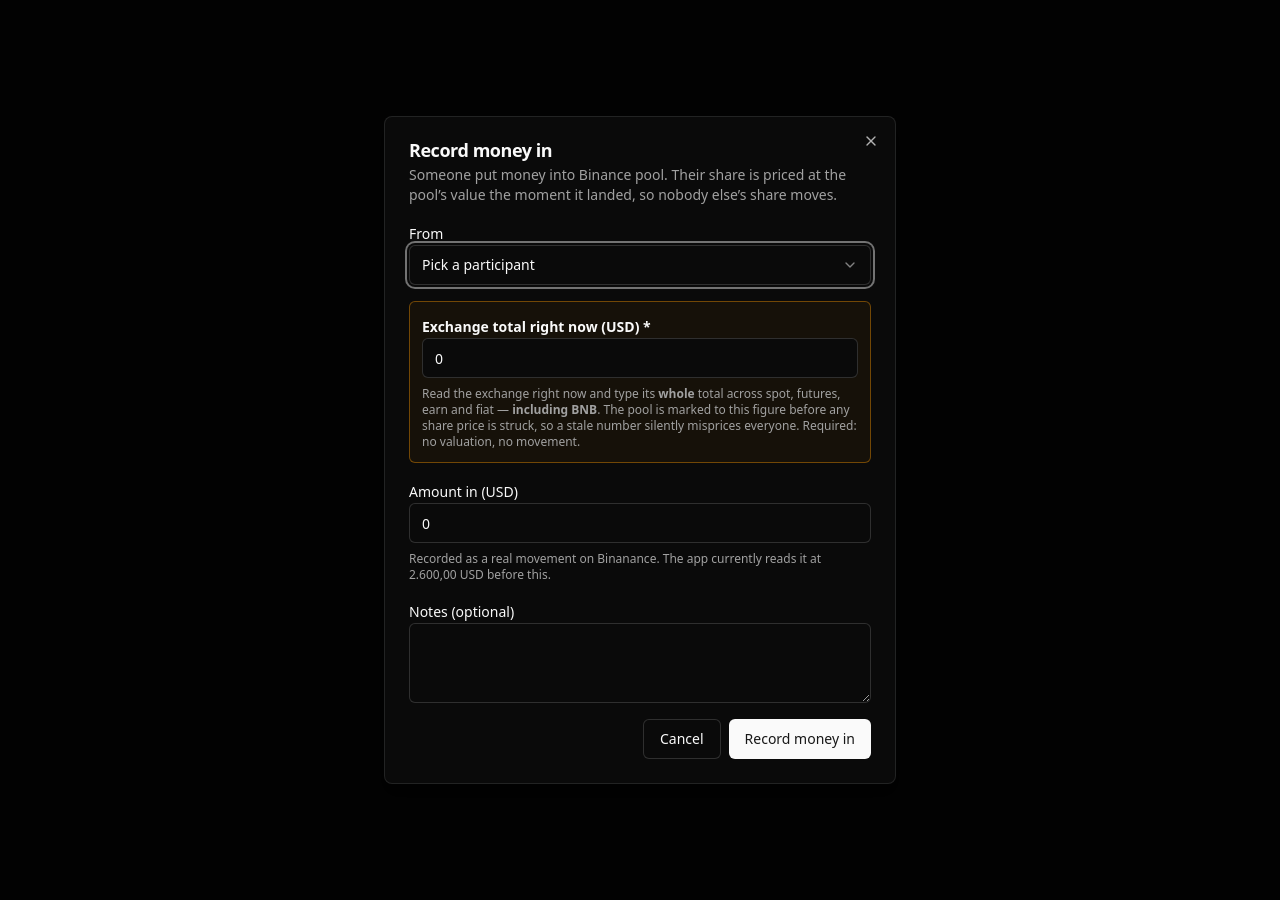
RecordSubscriptionDialog › refuses to move money without the exchange total
The width and height of the screenshot is (1280, 900).
Click the dropdown with test id "subscription-participant-select" at coordinates (478, 264), box left=409, top=245, right=871, bottom=285
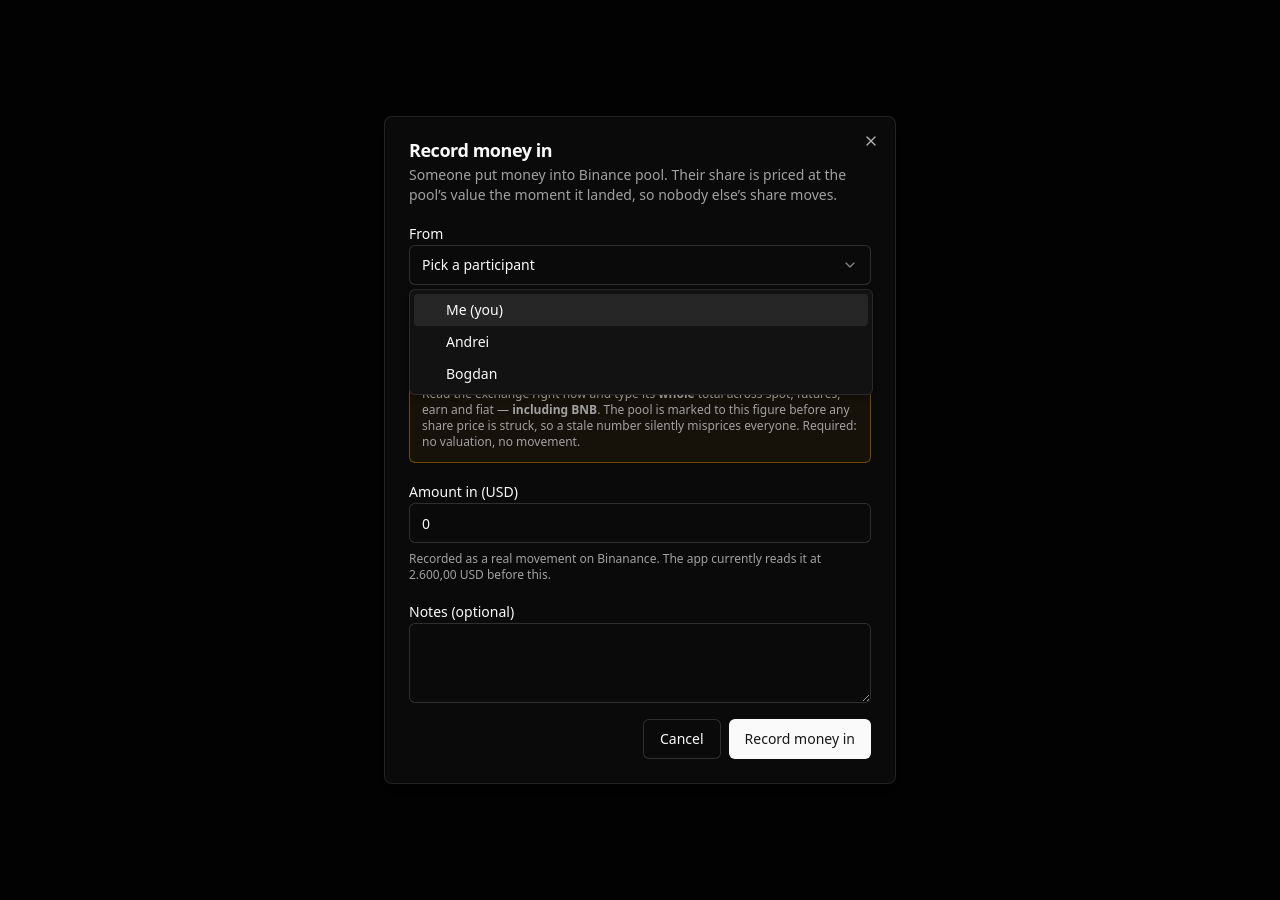
Click the option "Andrei" at coordinates (468, 342), box left=446, top=332, right=489, bottom=351
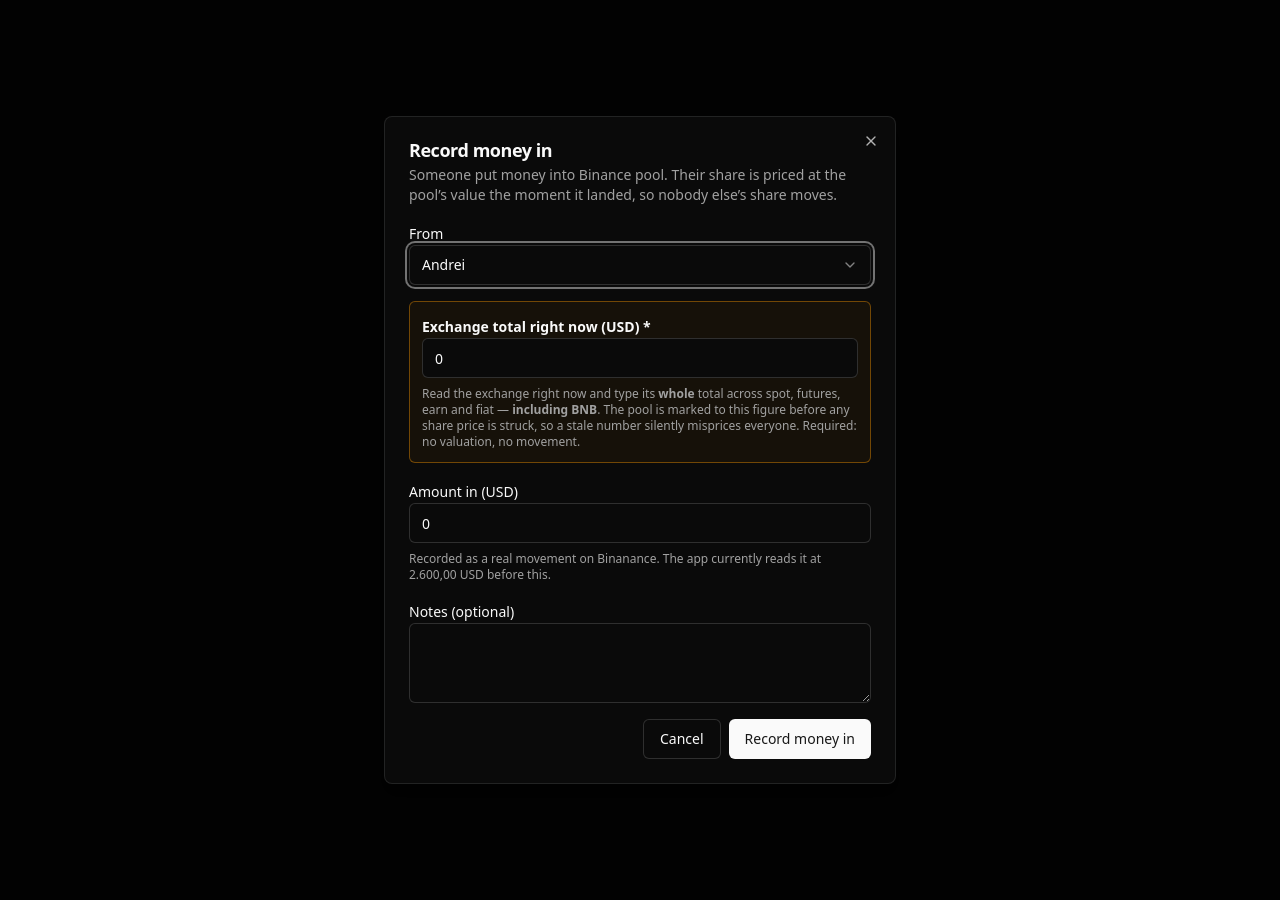
Replace the text in the number field with test id "subscription-cash-input" with "1000" at coordinates (640, 523), box left=409, top=503, right=871, bottom=543
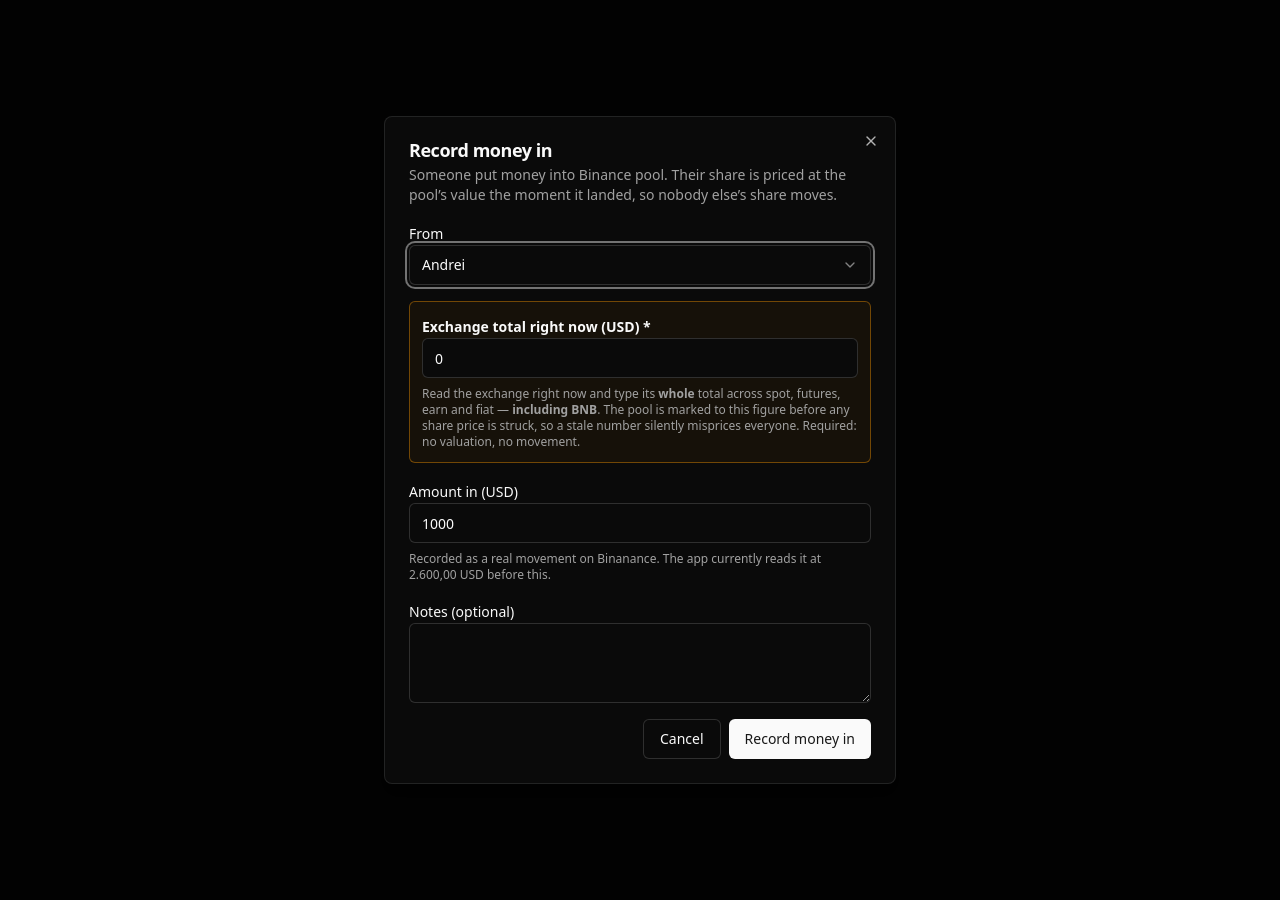
Click the button with test id "subscription-submit-button" at coordinates (800, 739), box left=729, top=719, right=871, bottom=759
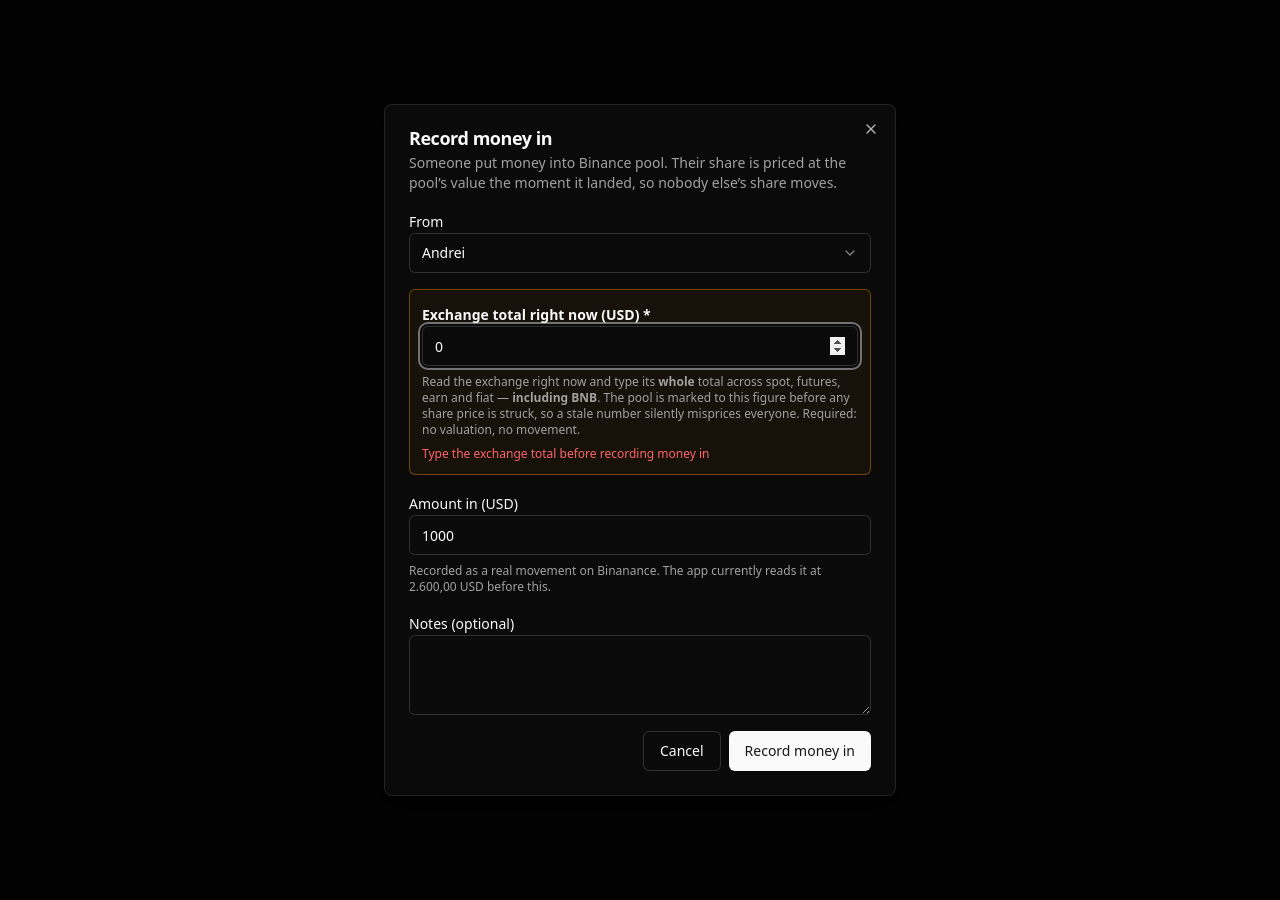
Expected: the text "Type the exchange total before recording money in" is shown, left=422, top=445, right=710, bottom=462
